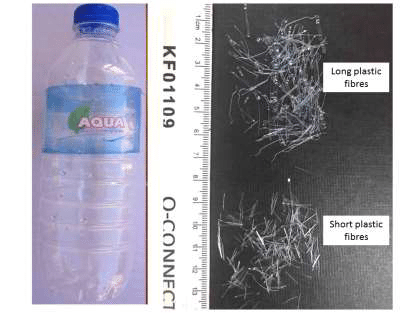plastic_bottle: (32, 2, 146, 305)
